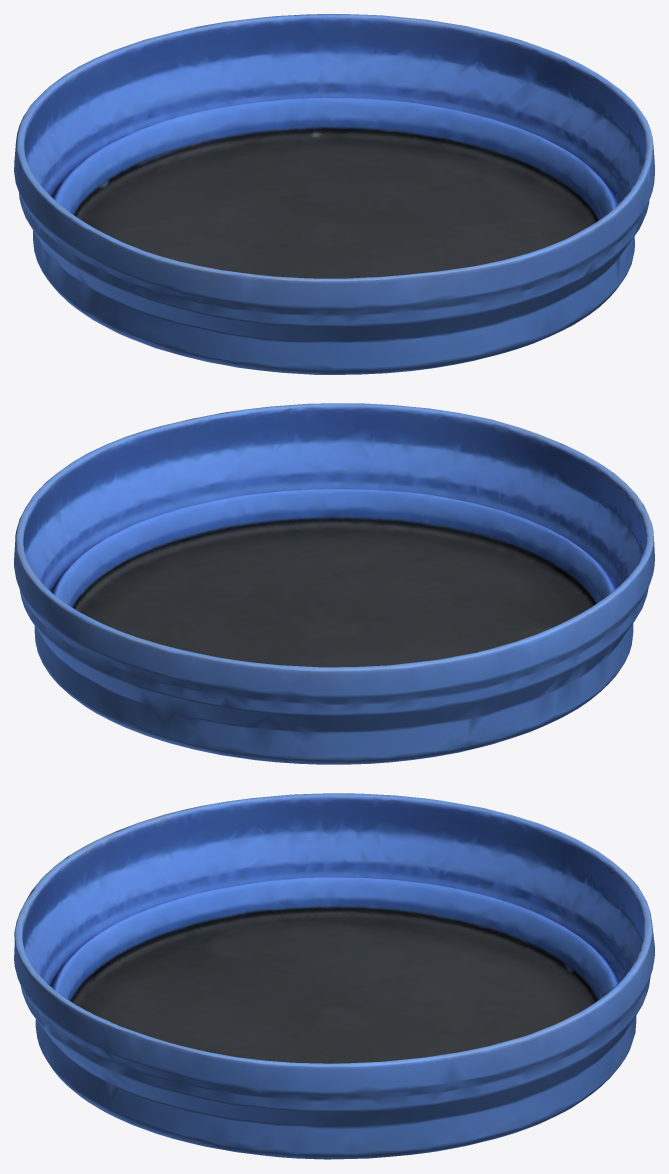
Rendered from Sea_to_Summit_Xl_Bowl.glb.
The picture shows the model from 3 angles, top to bottom: view 1: azimuth 30°, elevation 25°; view 2: azimuth 150°, elevation 25°; view 3: azimuth 270°, elevation 25°; orthographic projection.
Parts seen in each view (by area): view 1: model.obj; view 2: model.obj; view 3: model.obj.
Part boxes in pixels (bbox=[...]): model.obj: bbox=[14, 14, 654, 374]; model.obj: bbox=[14, 403, 654, 764]; model.obj: bbox=[14, 793, 654, 1159].
Size of the model in its own units: 0.9995 by 0.1969 by 1.
Materials: 1 (1 with a texture image).
